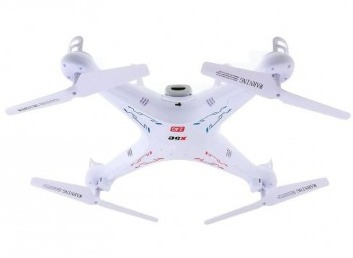drone: (7, 35, 348, 225)
